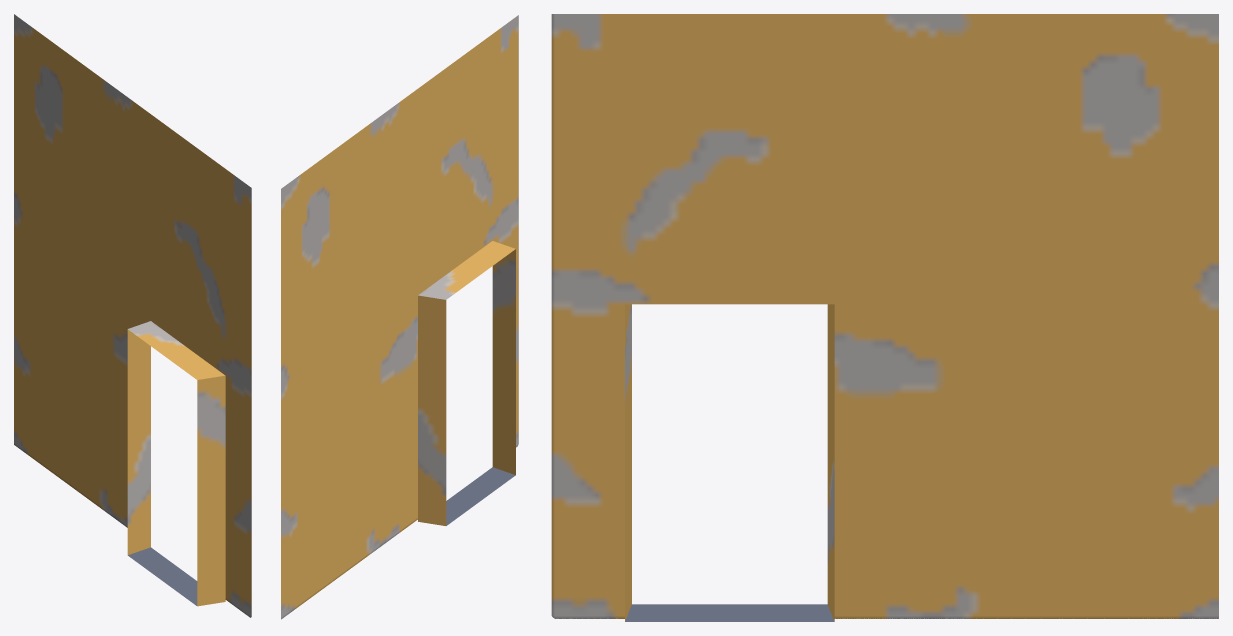
The model's file is ParedPuertaNaranja4.fbx.
The picture shows the model from 3 angles, left to right: view 1: azimuth 30°, elevation 25°; view 2: azimuth 150°, elevation 25°; view 3: azimuth 270°, elevation 25°; orthographic projection. The views are drawn at different scales.
Parts seen in each view (by area): view 1: Pared + puerta 3; view 2: Pared + puerta 3; view 3: Pared + puerta 3.
Boxes of the visible parts, x1,y1,x2,y2 form: Pared + puerta 3: (14, 14, 251, 617); Pared + puerta 3: (281, 15, 518, 619); Pared + puerta 3: (551, 14, 1218, 621).
Size of the model in its own units: 18.75 by 300 by 300.
Materials: 1 (1 with a texture image).
